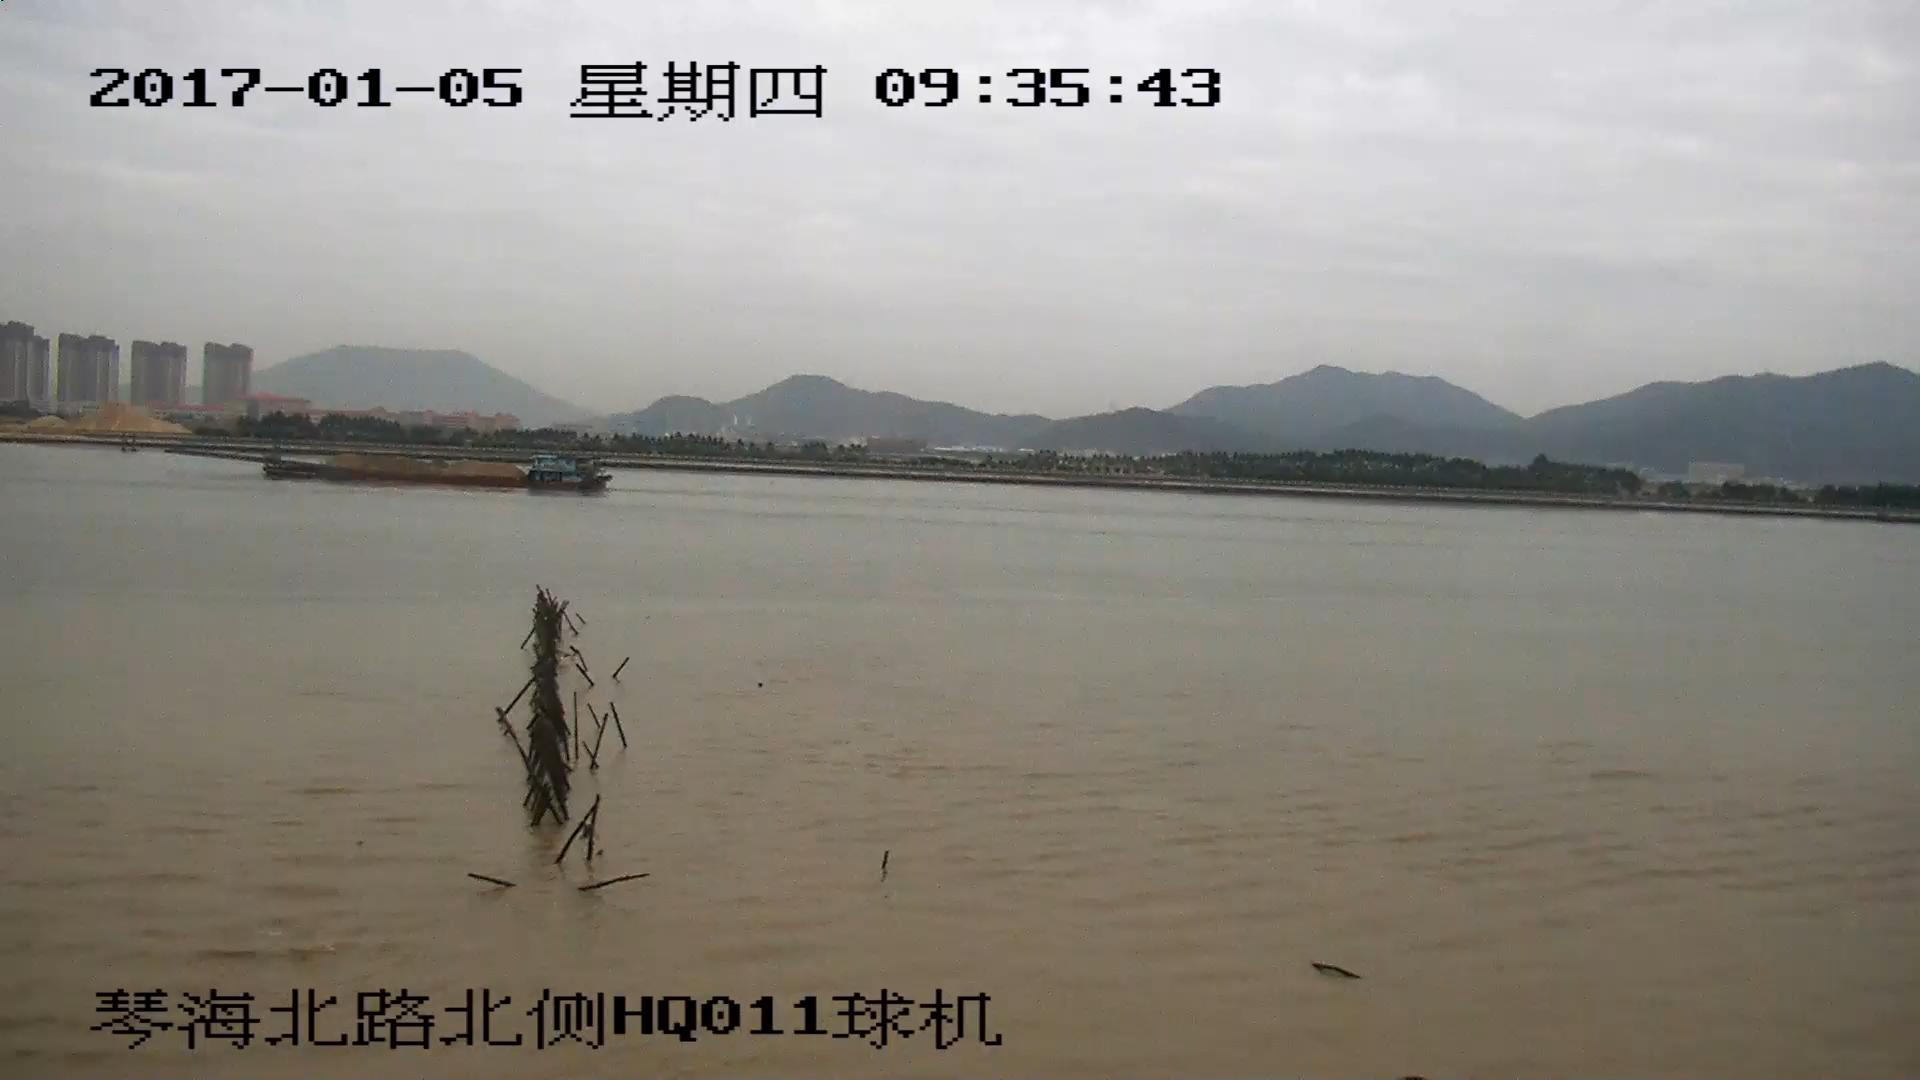ore carrier: (170, 442, 608, 494)
